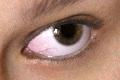eye: (54, 21, 83, 46)
